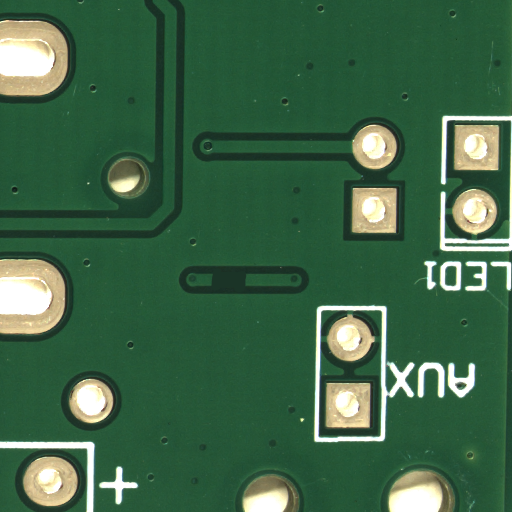Open_circuit: (228, 279, 264, 295)
